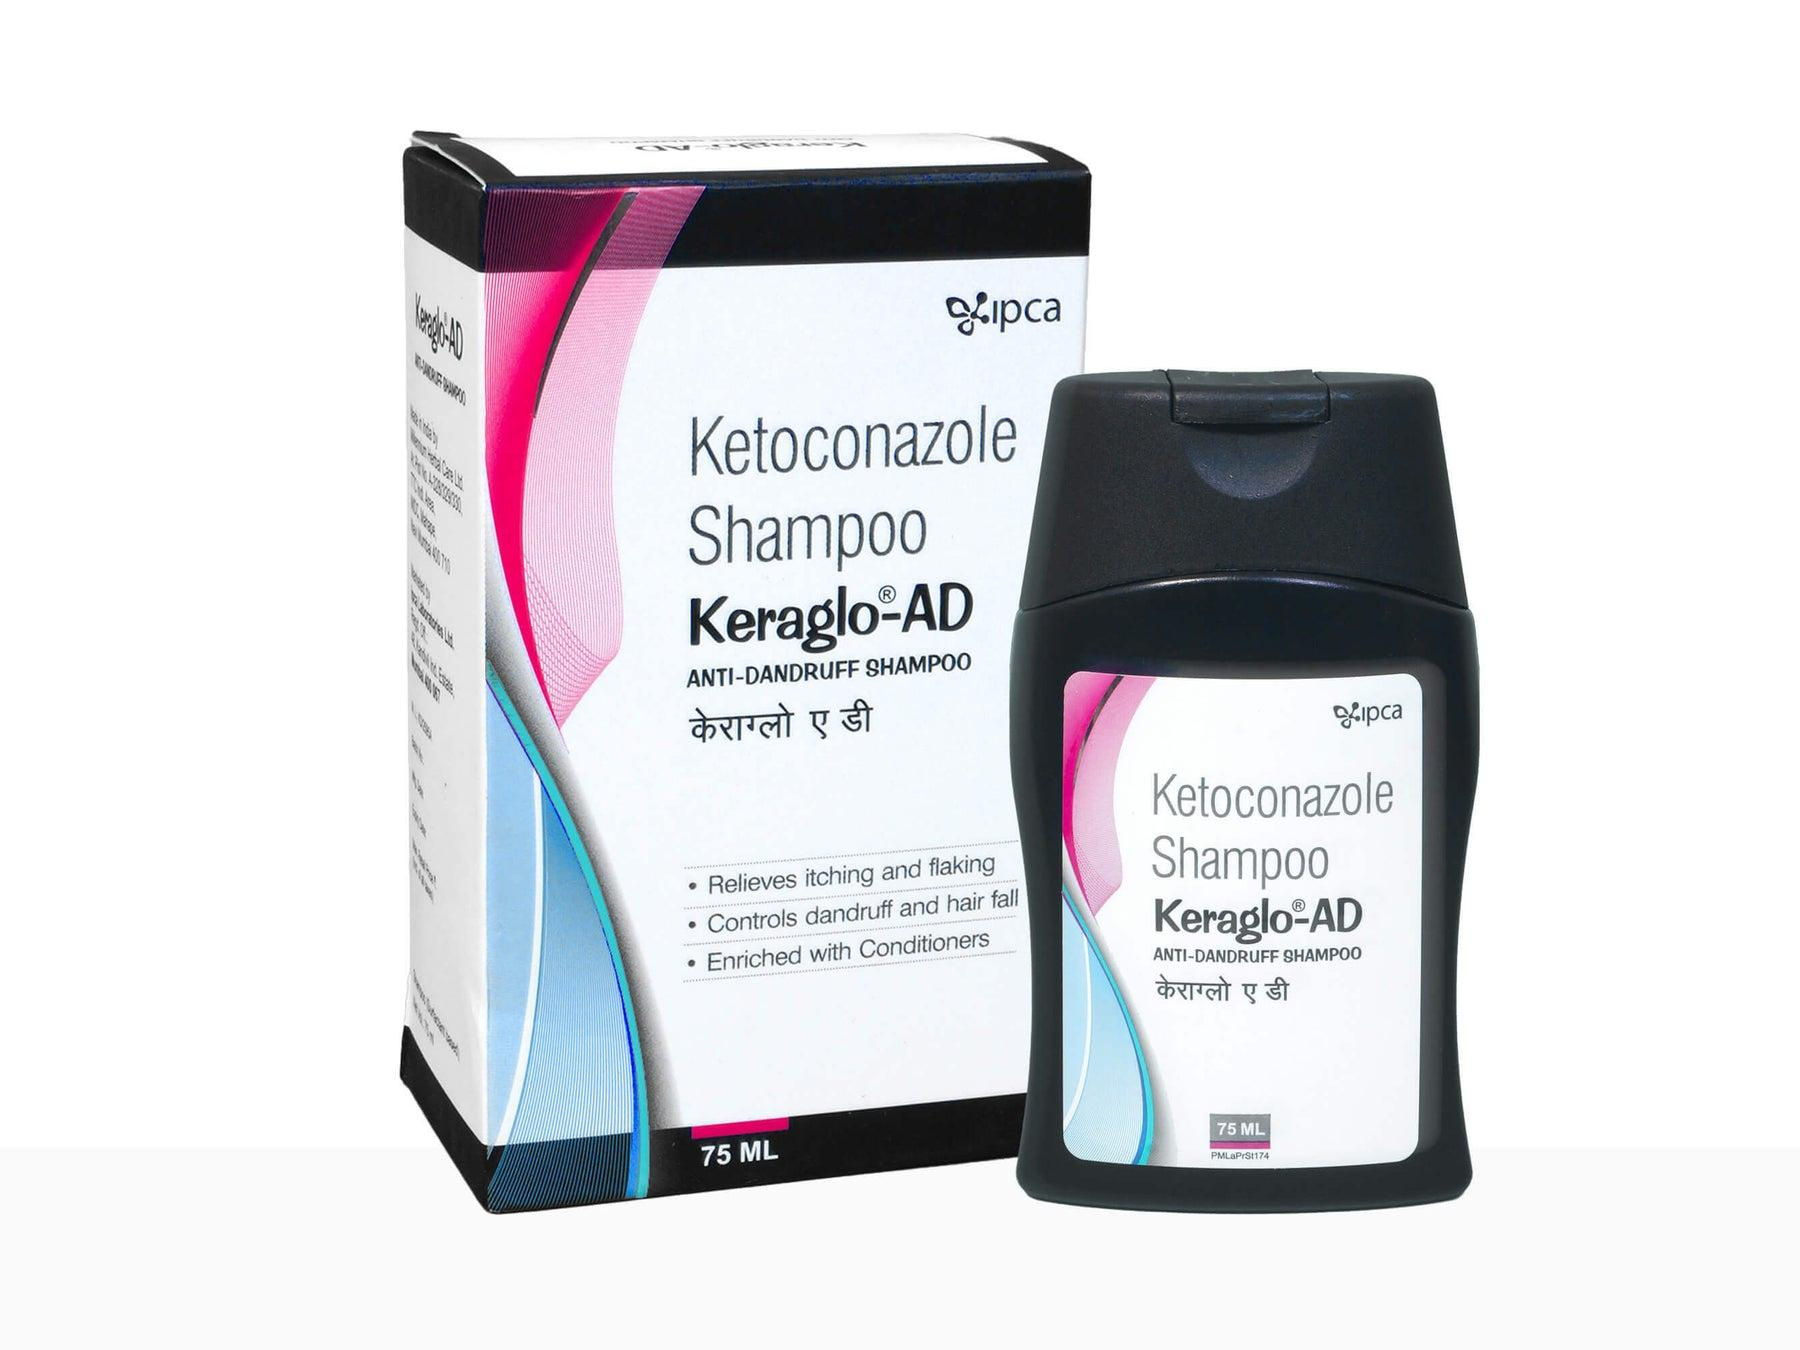KeraGlo: (1011, 377, 1484, 1204)
